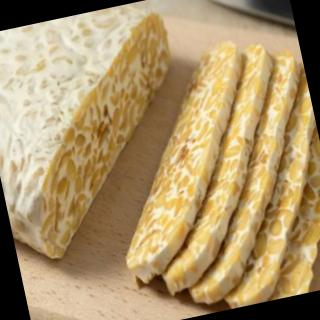Tempe: (83, 26, 320, 320)
